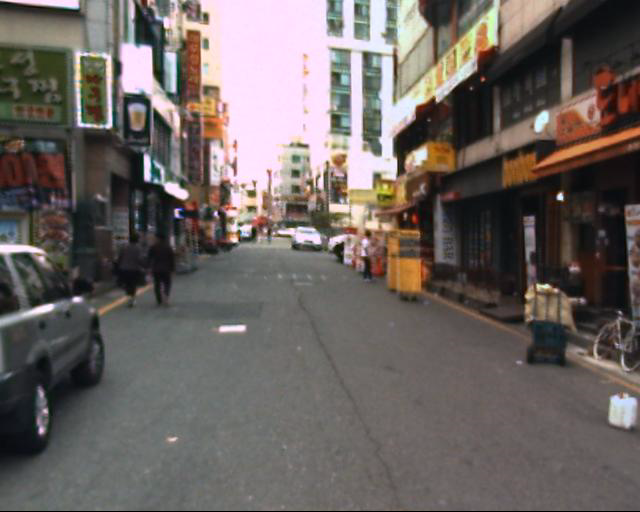person: (144, 222, 181, 314), (114, 217, 147, 315), (355, 209, 380, 278)
